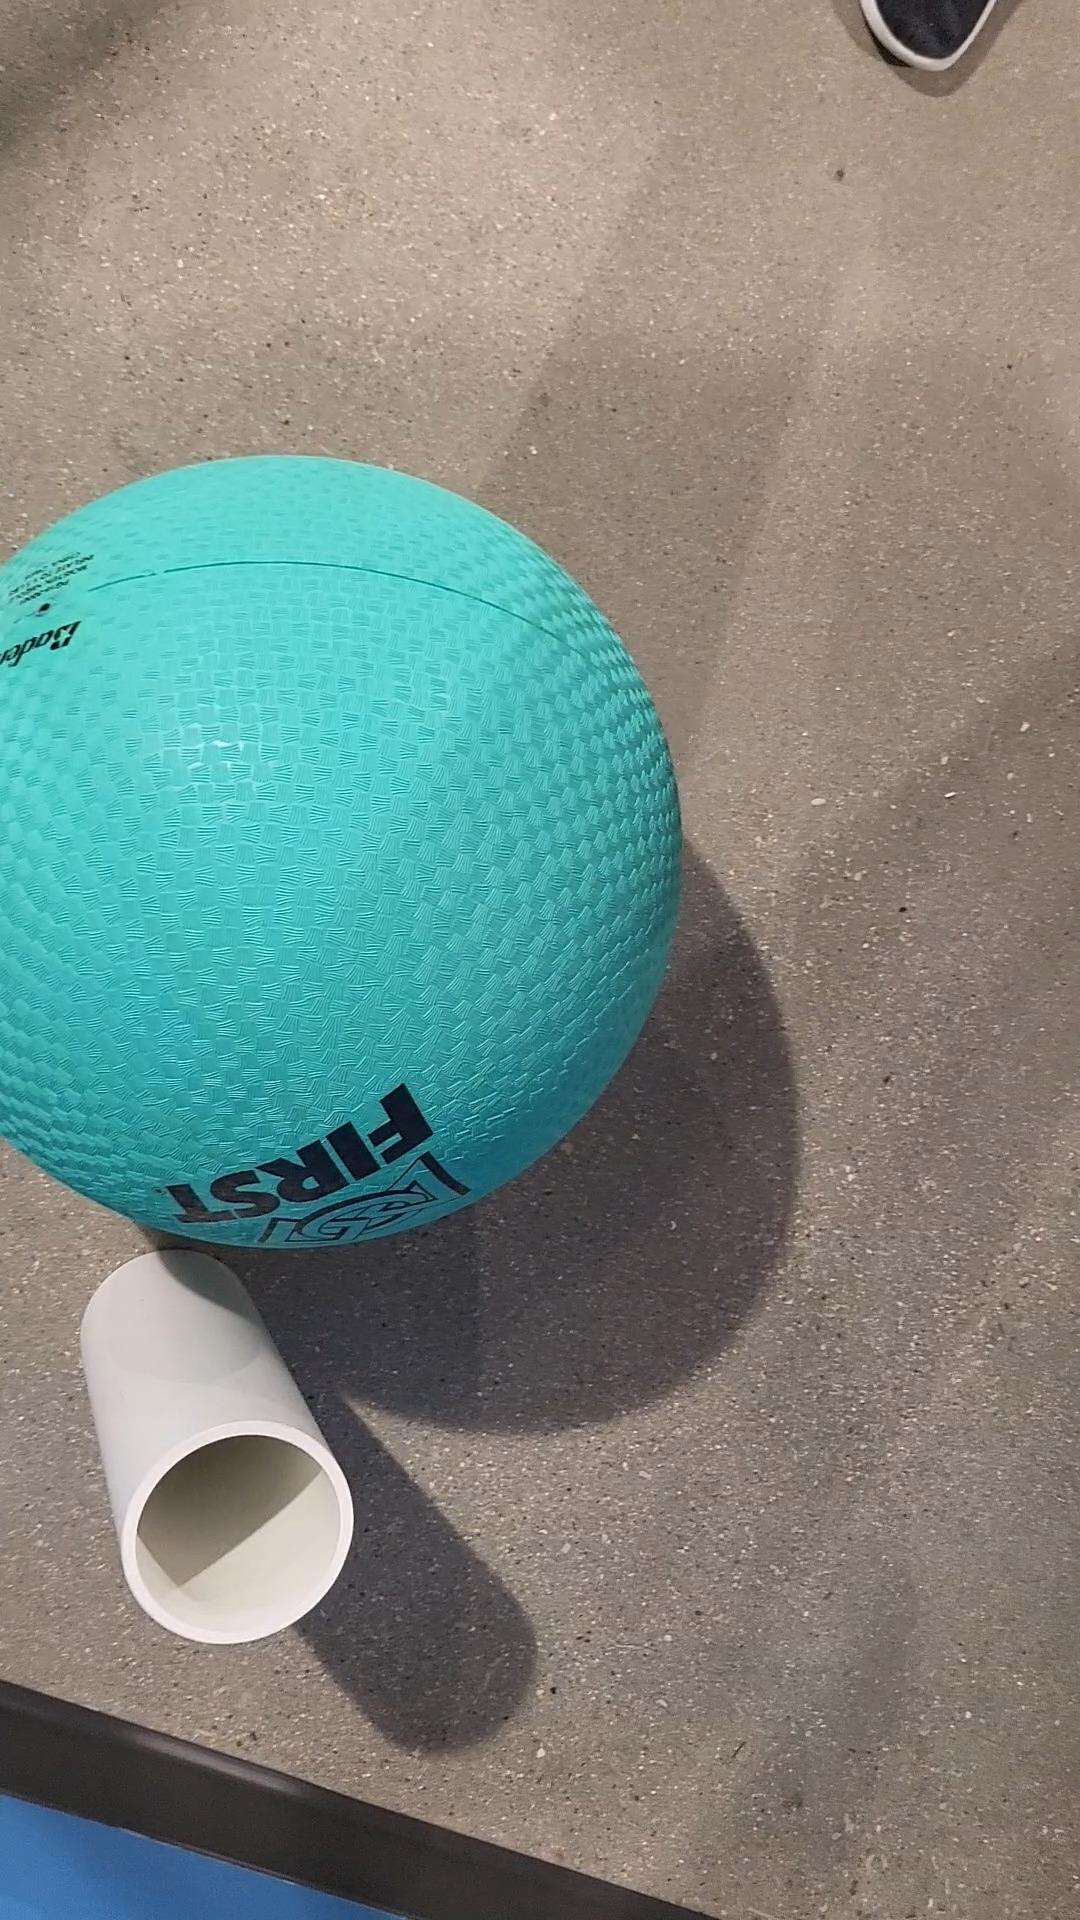algae: (0, 444, 690, 1293)
coral: (73, 1248, 367, 1653)
